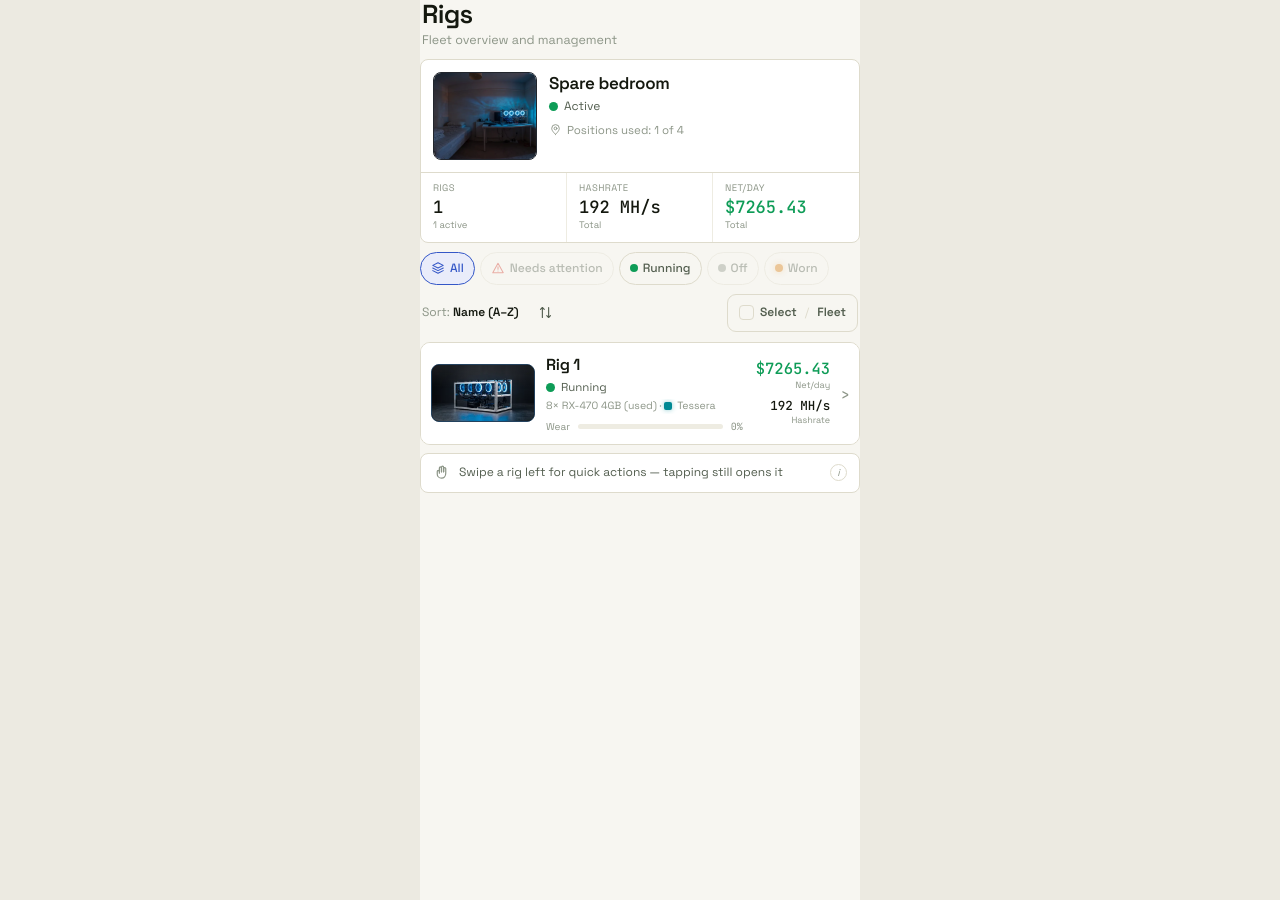
it: RigsView › rig detail header shows a larger chassis instead of a bare status dot
The width and height of the screenshot is (1280, 900).
Click the button with class "rigrow". click: (483, 393)
box: [421, 343, 859, 444]
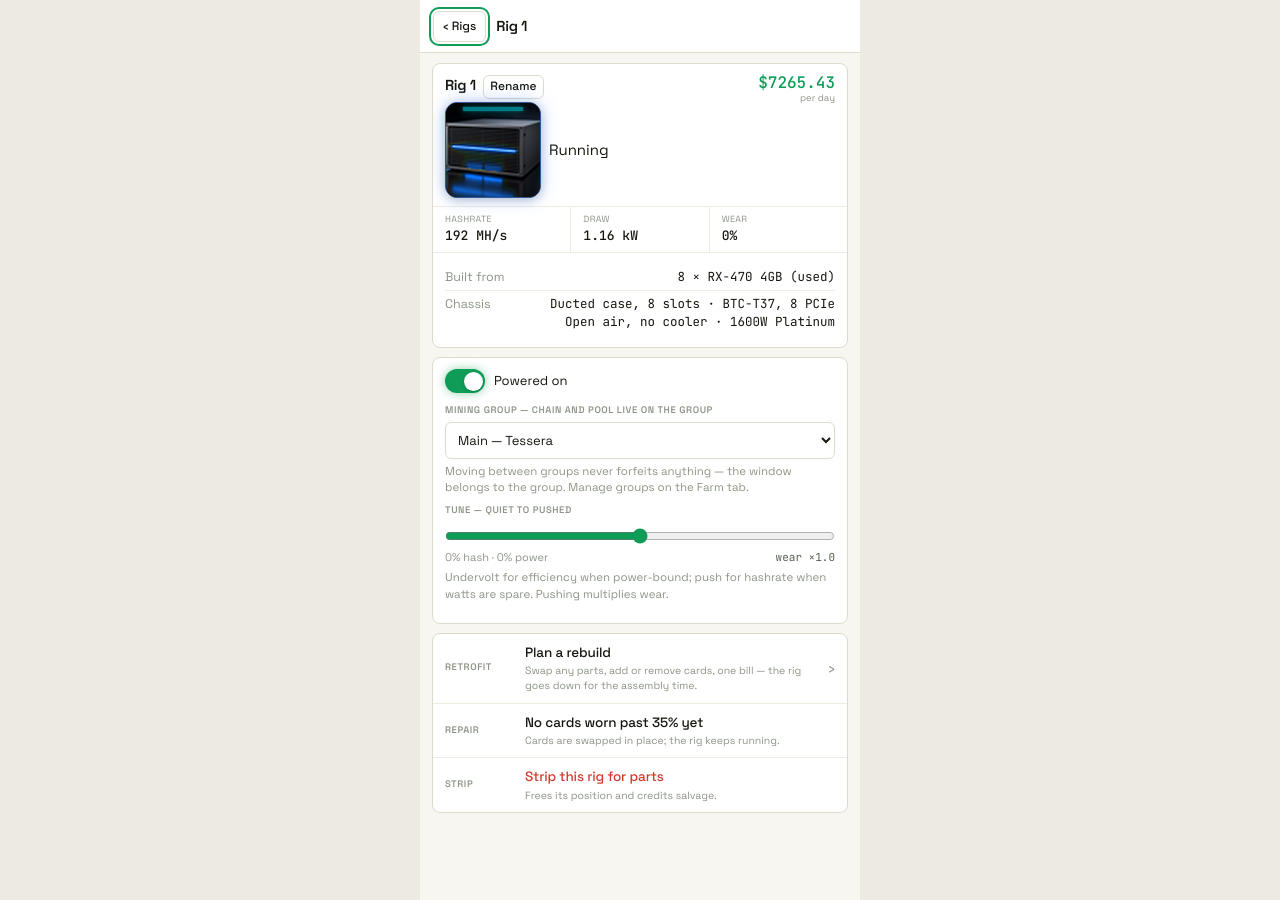
Expected: the picture with class "chassis" is shown, [445, 102, 541, 198]
